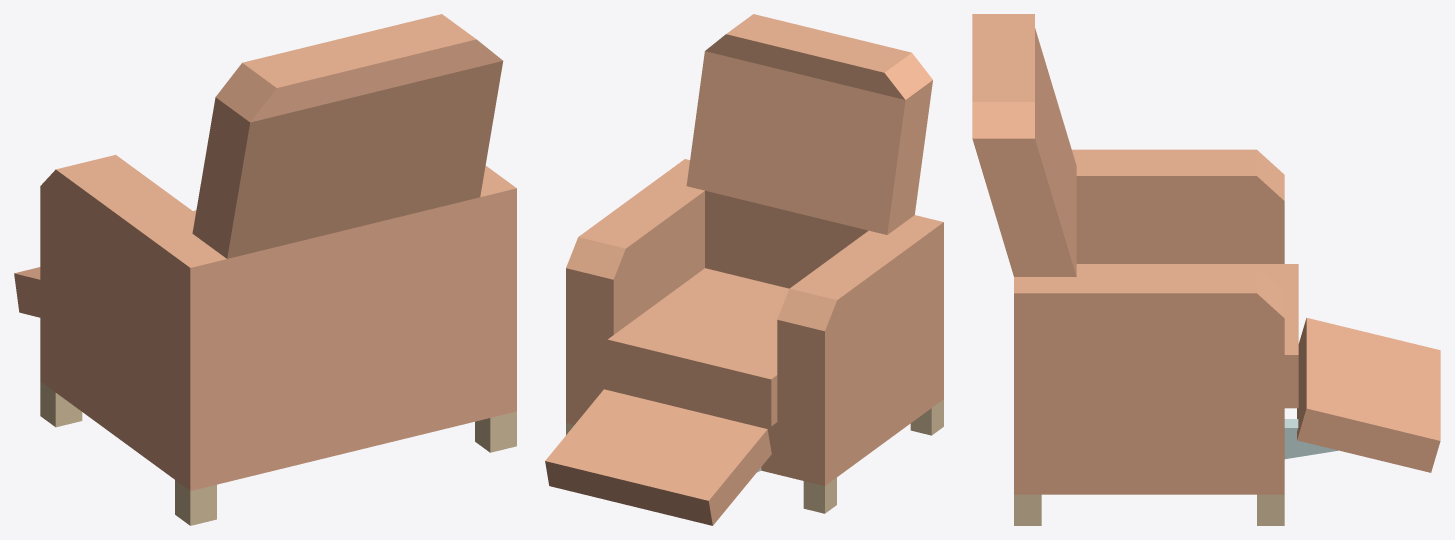
Rendered from beanbag-corner.glb.
3 renders of one model, left to right at view 1: azimuth 30°, elevation 25°; view 2: azimuth 150°, elevation 25°; view 3: azimuth 270°, elevation 25°, orthographic. The views are drawn at different scales.
Parts seen in each view (by area): view 1: loungeChairRelax; view 2: loungeChairRelax; view 3: loungeChairRelax.
Boxes of the visible parts, x1,y1,x2,y2 form: loungeChairRelax: [14, 14, 516, 525]; loungeChairRelax: [545, 14, 943, 525]; loungeChairRelax: [972, 14, 1440, 525].
Size of the model in its own units: 4.9 by 6.3 by 6.75.
